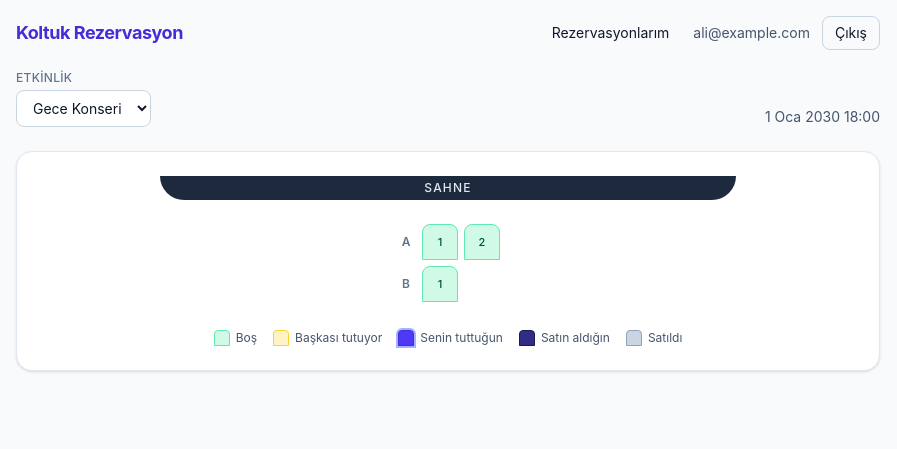
Test: koltuk tutma ve onaylama akışı › aynı anda başkası kazandıysa (409) sunucunun mesajını gösterir ve haritayı yeniler
Click the button named "A1, boş" at (440, 242), box [422,224,458,260]
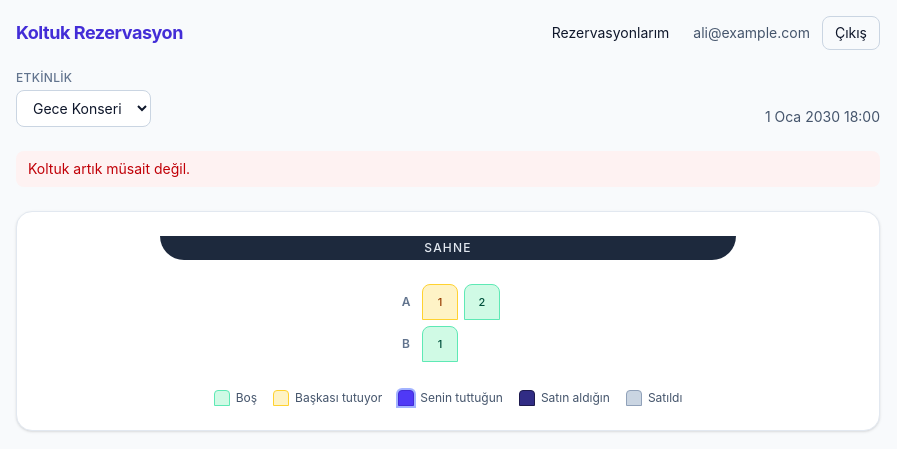
expect the message reads "Koltuk artık müsait değil.": met, box [28,160,190,177]
expect the button named "A1, başkası tutuyor" is disabled: met, box [422,284,458,320]
